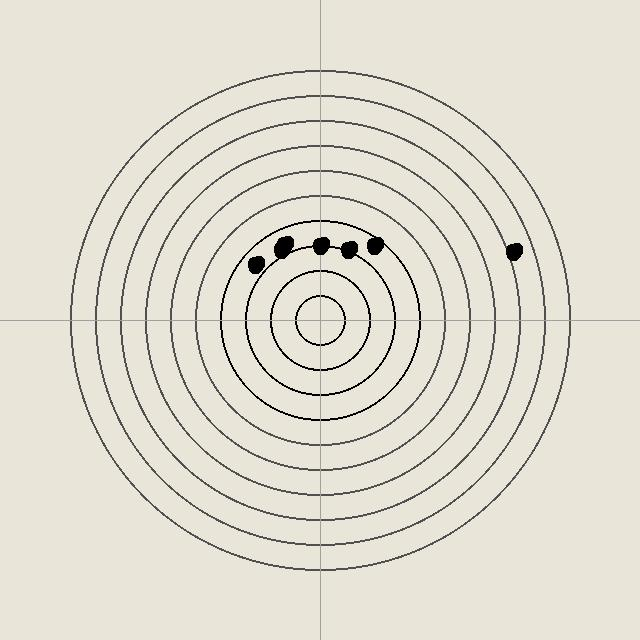horizontal_scatter: (310, 235, 330, 255), (364, 235, 384, 255), (245, 254, 265, 274), (271, 239, 291, 259), (503, 241, 523, 261), (274, 234, 294, 254), (338, 239, 358, 259)
